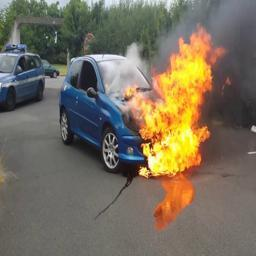fire: (128, 22, 226, 177)
